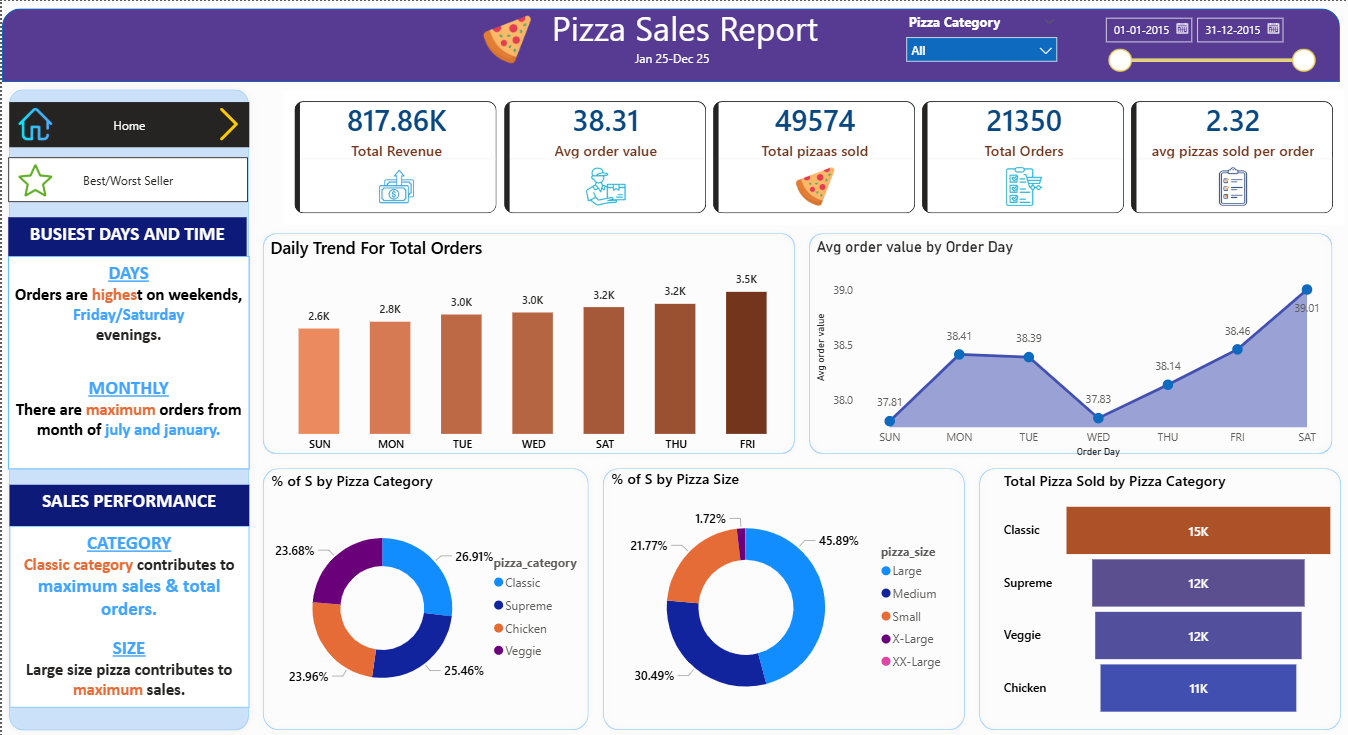

This screenshot's page, from the dashboard's own definition file:
{"tool":"powerbi","page":{"name":"Home","canvas":[1500,820],"ordinal":0},"visuals":[{"type":"shape","box":[0,90.1,283,730.1],"z":0},{"type":"cardVisual","fields":{"Data":["pizza_sales.Total Revenue","pizza_sales.Avg order value","pizza_sales.Total pizaas sold","pizza_sales.Total Orders","pizza_sales.avg pizzas sold per order"]},"box":[308.7,94.9,1191.6,159.2],"z":1000},{"type":"shape","box":[0,8,1490.7,82],"z":2000},{"type":"textbox","box":[563.3,0,396.7,70],"z":3000},{"type":"textbox","box":[440,50,613.3,51.7],"z":4000},{"type":"image","box":[526.7,15,73.3,55],"z":5000},{"type":"columnChart","title":"Daily Trend For Total Orders","fields":{"Y":["pizza_sales.Total Orders"],"Category":["pizza_sales.Order Day"]},"box":[293.9,261.8,597.5,250.7],"z":6000},{"type":"shape","box":[891.3,250.7,598.8,261.8],"z":7000},{"type":"shape","box":[282.7,250.7,608.6,261.8],"z":8000},{"type":"lineChart","fields":{"Y":["pizza_sales.Avg order value"],"Category":["pizza_sales.Order Day"]},"box":[902.5,263.2,587.7,250.7],"z":9000},{"type":"shape","box":[282.7,512.5,378.8,307.8],"z":10000},{"type":"shape","box":[661.5,512.5,419.2,307.8],"z":11000},{"type":"shape","box":[1080.7,512.5,419.2,307.8],"z":12000},{"type":"donutChart","title":"% of S by Pizza Category","fields":{"Category":["pizza_sales.pizza_category"],"Y":["pizza_sales.Total Revenue"]},"box":[295.2,522.3,366.3,286.9],"z":13000},{"type":"donutChart","title":"% of S by Pizza Size","fields":{"Category":["pizza_sales.pizza_size"],"Y":["pizza_sales.Total Revenue"]},"box":[674.1,520.9,389.9,288.3],"z":14000},{"type":"funnel","title":"Total Pizza Sold by Pizza Category","fields":{"Category":["pizza_sales.pizza_category"],"Y":["pizza_sales.Total pizaas sold"]},"box":[1111.4,522.3,378.8,288.3],"z":15000},{"type":"textbox","box":[6.4,241.2,265.3,43.4],"z":16000},{"type":"textbox","box":[6.4,284.6,268.5,238],"z":17000},{"type":"textbox","box":[8,538.7,266.9,46.6],"z":18000},{"type":"textbox","box":[8,585.3,266.9,202.6],"z":19000},{"type":"slicer","fields":{"Values":["pizza_sales.pizza_category"]},"box":[997,8,188.1,82],"z":19001},{"type":"slicer","fields":{"Values":["pizza_sales.order_date"]},"box":[1217.3,8,254.1,82],"z":19002},{"type":"pageNavigator","box":[8.4,112.8,267.4,50.1],"z":19003},{"type":"pageNavigator","box":[7,174.1,267.4,50.1],"z":19004},{"type":"image","box":[0,118.4,73.8,37.6],"z":19005},{"type":"image","box":[0,181,73.8,37.6],"z":19006},{"type":"image","box":[211.7,118.4,82.2,37.6],"z":19007}]}

Visuals, with their boxes in screenshot pixels (x1, y1, x2, y2), scaled from the page's 1500x820 canvas onto the 1348x735 screenshot:
shape: rect(0, 81, 254, 734)
cardVisual - pizza_sales.Total Revenue x pizza_sales.Avg order value: rect(277, 85, 1347, 228)
shape: rect(0, 7, 1340, 81)
textbox: rect(506, 0, 863, 63)
textbox: rect(395, 45, 947, 91)
image: rect(473, 13, 539, 63)
"Daily Trend For Total Orders" columnChart: rect(264, 235, 801, 459)
shape: rect(801, 225, 1339, 459)
shape: rect(254, 225, 801, 459)
lineChart - pizza_sales.Avg order value x pizza_sales.Order Day: rect(811, 236, 1339, 461)
shape: rect(254, 459, 594, 734)
shape: rect(594, 459, 971, 734)
shape: rect(971, 459, 1347, 734)
"% of S by Pizza Category" donutChart: rect(265, 468, 594, 725)
"% of S by Pizza Size" donutChart: rect(606, 467, 956, 725)
"Total Pizza Sold by Pizza Category" funnel: rect(999, 468, 1339, 727)
textbox: rect(6, 216, 244, 255)
textbox: rect(6, 255, 247, 468)
textbox: rect(7, 483, 247, 525)
textbox: rect(7, 525, 247, 706)
slicer - pizza_sales.pizza_category: rect(896, 7, 1065, 81)
slicer - pizza_sales.order_date: rect(1094, 7, 1322, 81)
pageNavigator: rect(8, 101, 248, 146)
pageNavigator: rect(6, 156, 247, 201)
image: rect(0, 106, 66, 140)
image: rect(0, 162, 66, 196)
image: rect(190, 106, 264, 140)
